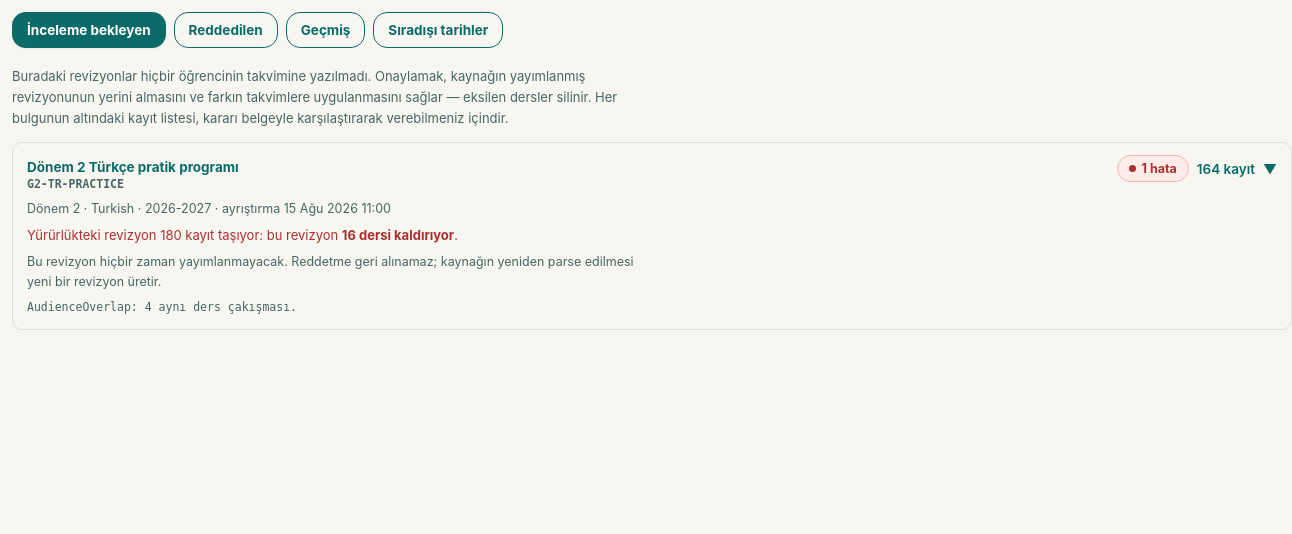
Test: RevisionReview › reads back who rejected a revision and why, with no action offered
The image size is (1292, 534).
Click the tab "Reddedilen": (226,30) [174,12,278,48]
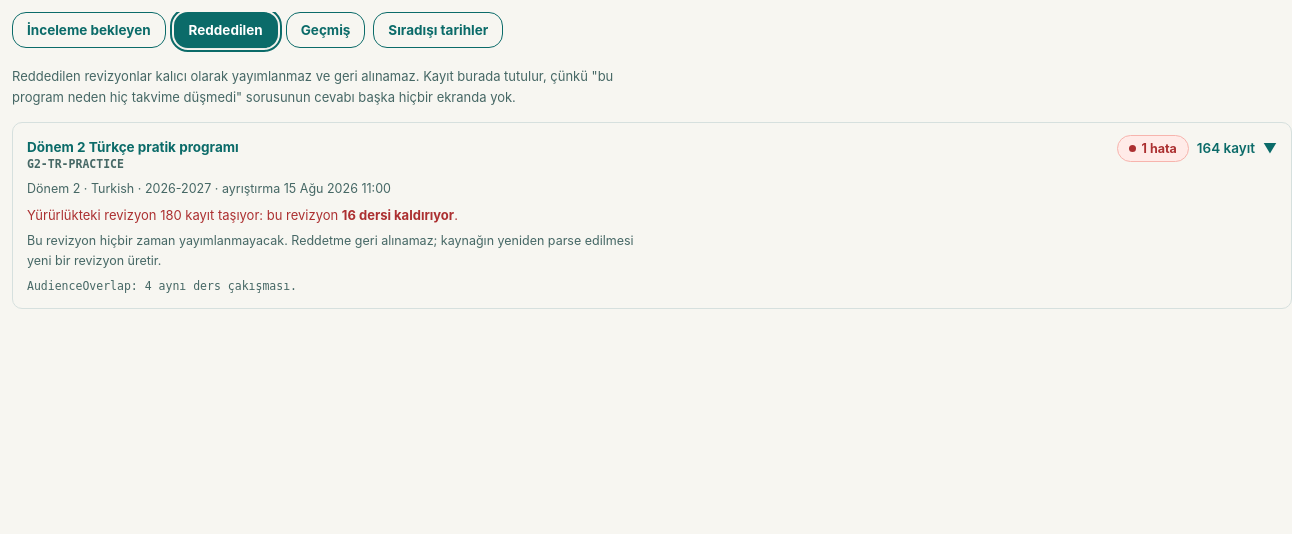
Click the text "Dönem 2 Türkçe pratik programı": (133,147) [27,139,239,155]
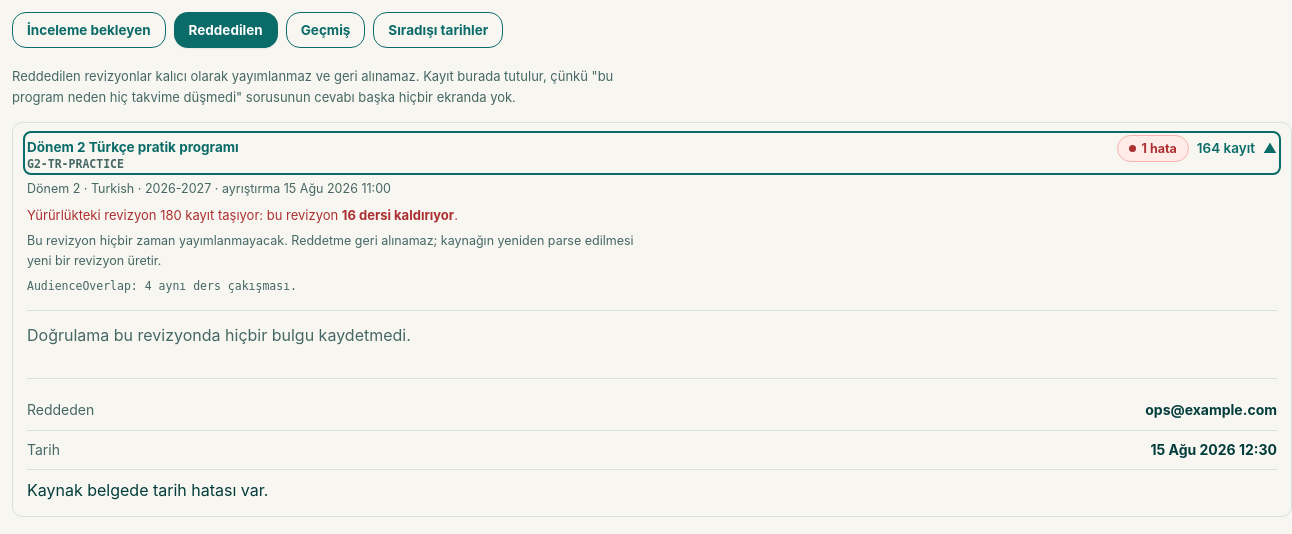
Expected: the text "ops@example.com" is shown, [1145,399,1277,422]
Expected: the text "Kaynak belgede tarih hatası var." is shown, [27,480,268,500]
